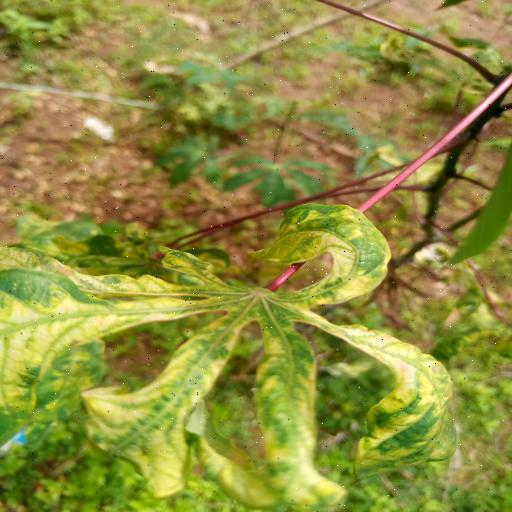Cassava_Mosaic: (0, 199, 460, 512)
